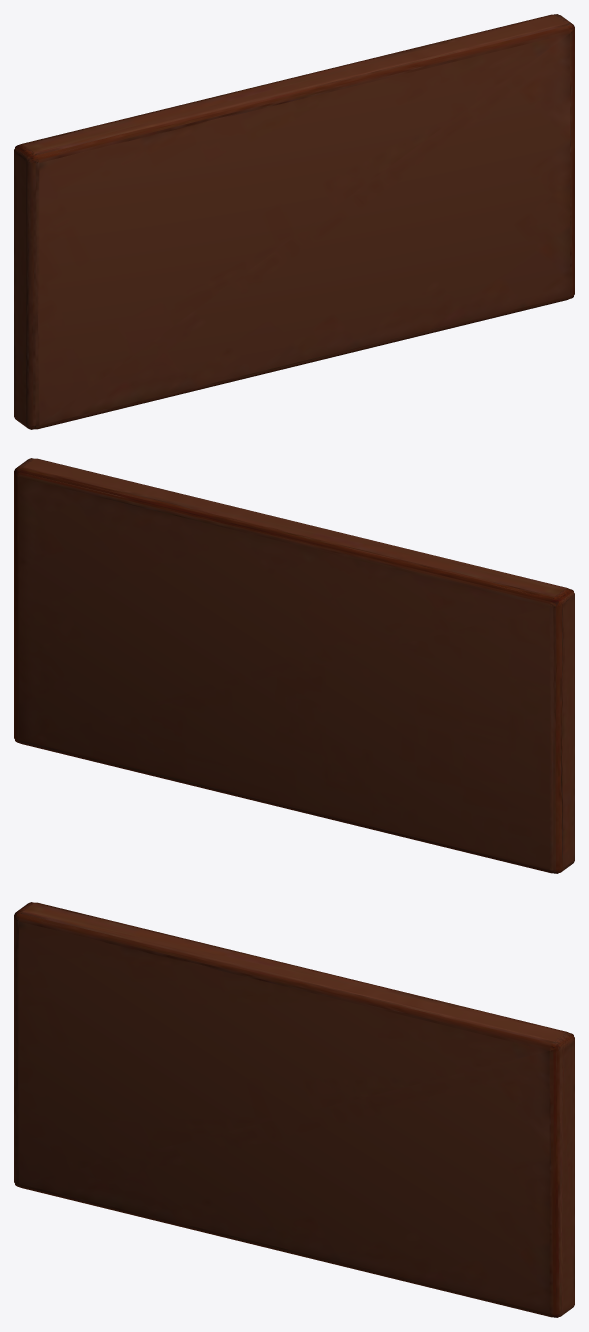
Rendered from stage4_sink_drawer_out.fbx.
3 renders of one model, top to bottom at view 1: azimuth 30°, elevation 25°; view 2: azimuth 150°, elevation 25°; view 3: azimuth 330°, elevation 25°, orthographic.
Parts seen in each view (by area): view 1: stage4_sink_drawer_out; view 2: stage4_sink_drawer_out; view 3: stage4_sink_drawer_out.
Boxes of the visible parts, bbox=[...] form: stage4_sink_drawer_out: bbox=[14, 14, 574, 429]; stage4_sink_drawer_out: bbox=[14, 458, 574, 873]; stage4_sink_drawer_out: bbox=[14, 902, 574, 1317].
Size of the model in its own units: 47.85 by 23.04 by 3.09.
